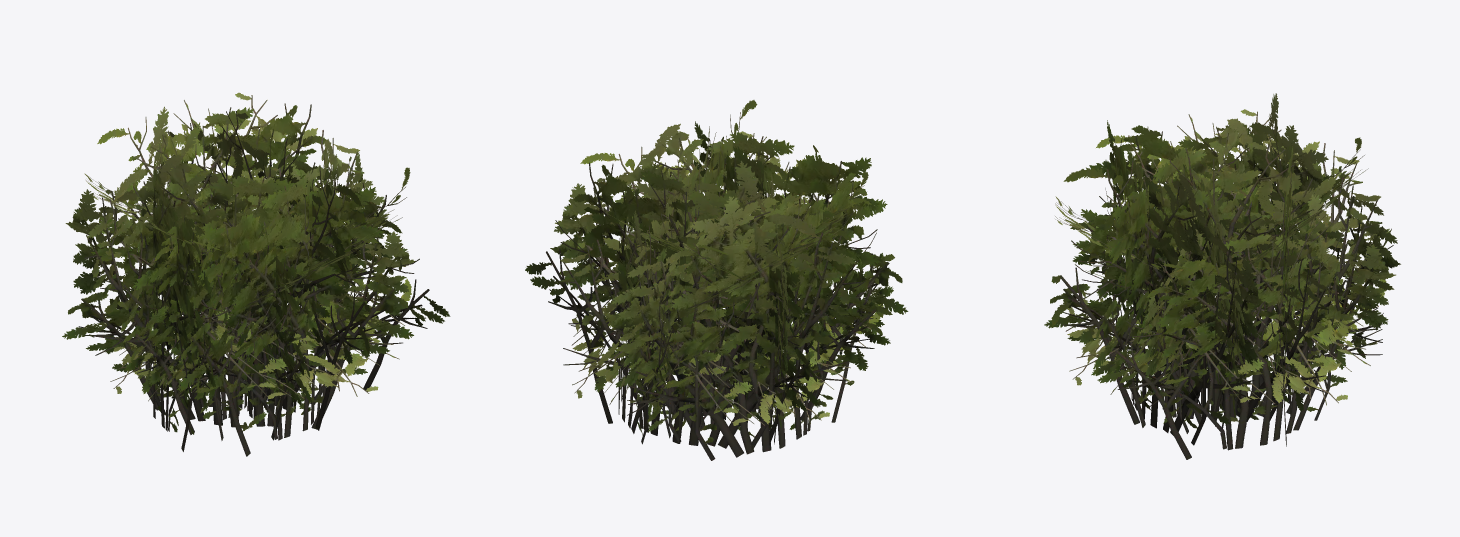
Rendered from runtime-saltbush-2.glb.
3 views of the same model, side by side, from view 1: azimuth 30°, elevation 25°; view 2: azimuth 150°, elevation 25°; view 3: azimuth 270°, elevation 25° (orthographic).
Parts seen in each view (by area): view 1: Bush-03_15; view 2: Bush-03_15; view 3: Bush-03_15.
Part boxes in pixels (x1=…): Bush-03_15: x1=62, y1=92, x2=450, y2=456; Bush-03_15: x1=525, y1=100, x2=908, y2=460; Bush-03_15: x1=1044, y1=93, x2=1400, y2=459.
Bounding box in the file's own units: 1.36 × 1.18 × 1.42.
Materials: 4 (4 with a texture image).
